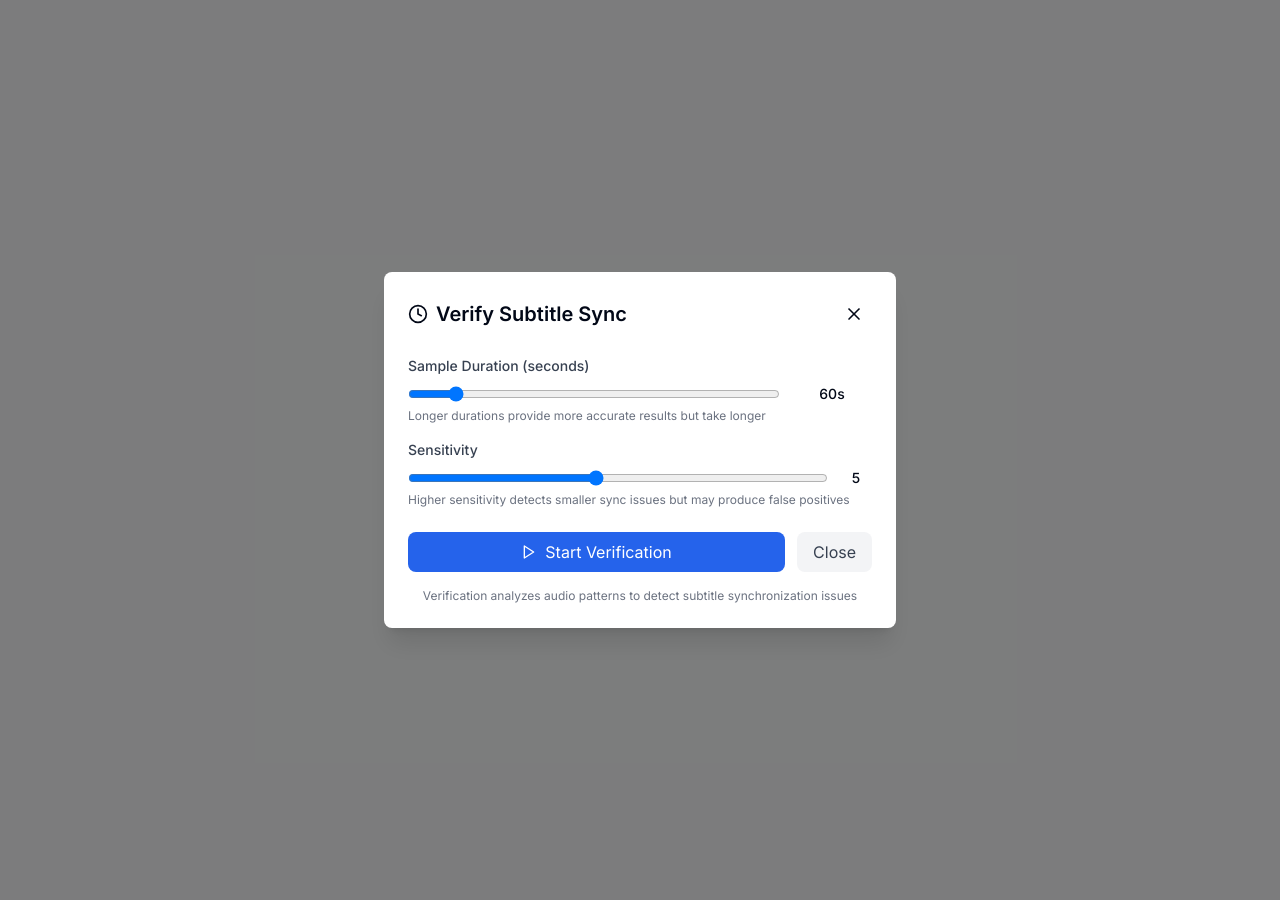
Test case: SubtitleSyncModal › Verification flow › displays unusable sync result on API error
Click the button "Start Verification" at (597, 552), box [408, 532, 785, 572]
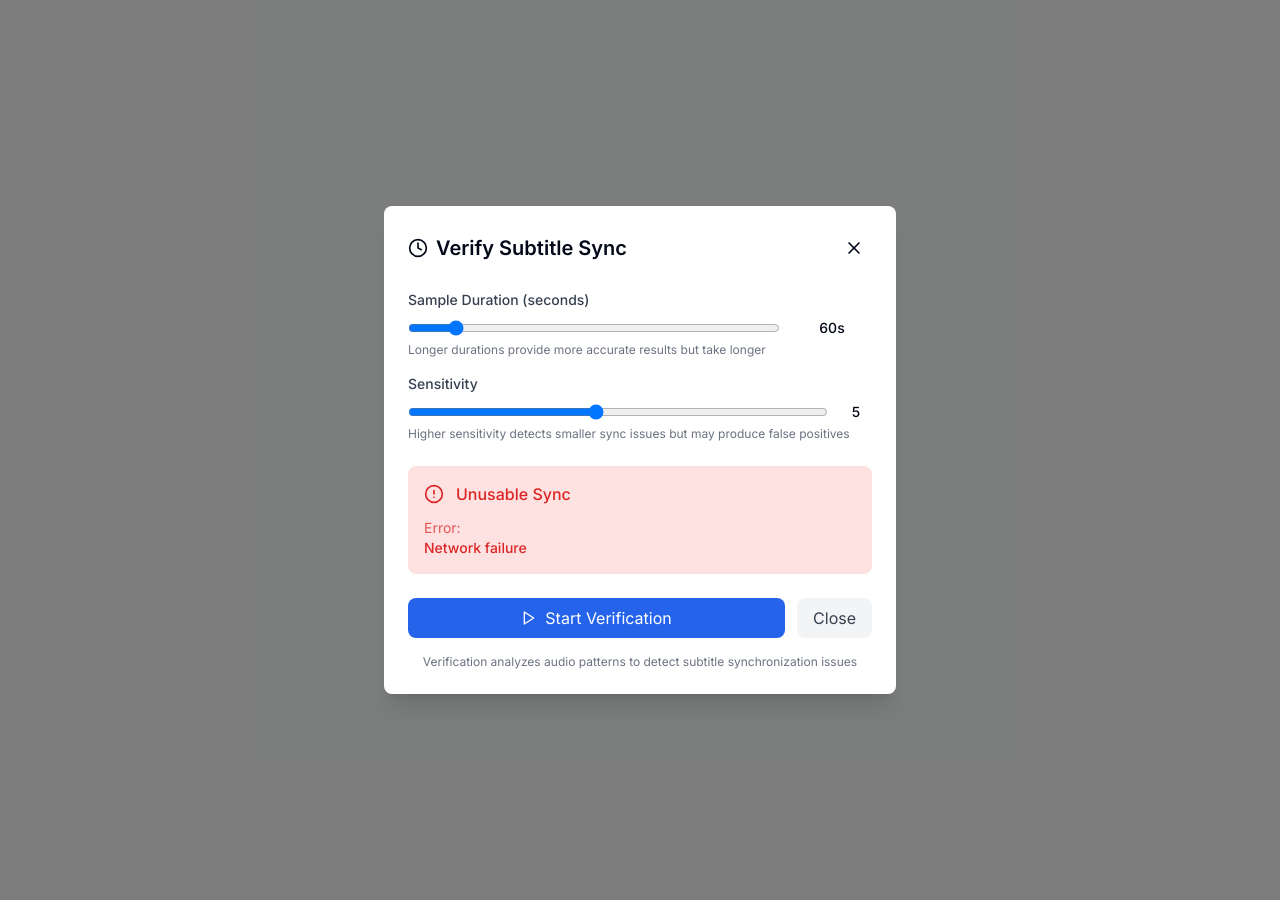
Result: the text "Network failure" is shown at [424, 539, 527, 556]
